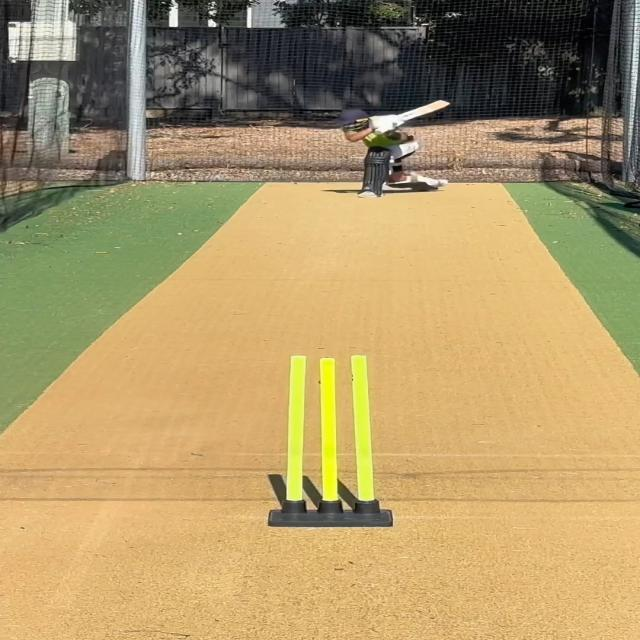stump: (268, 353, 394, 527)
